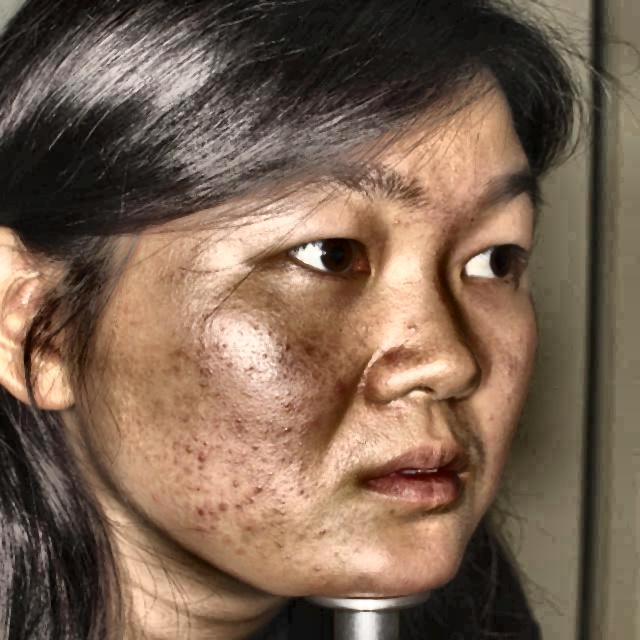comedone: (327, 378, 349, 398)
